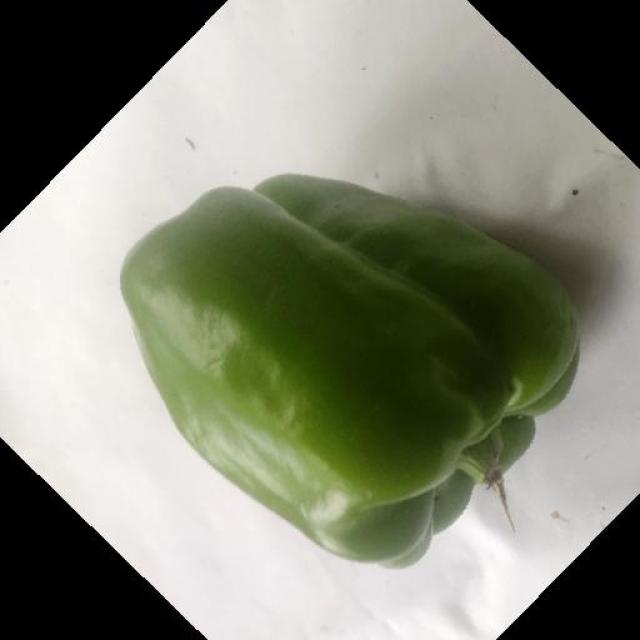Fresh_Capsicum: (162, 198, 566, 540)
